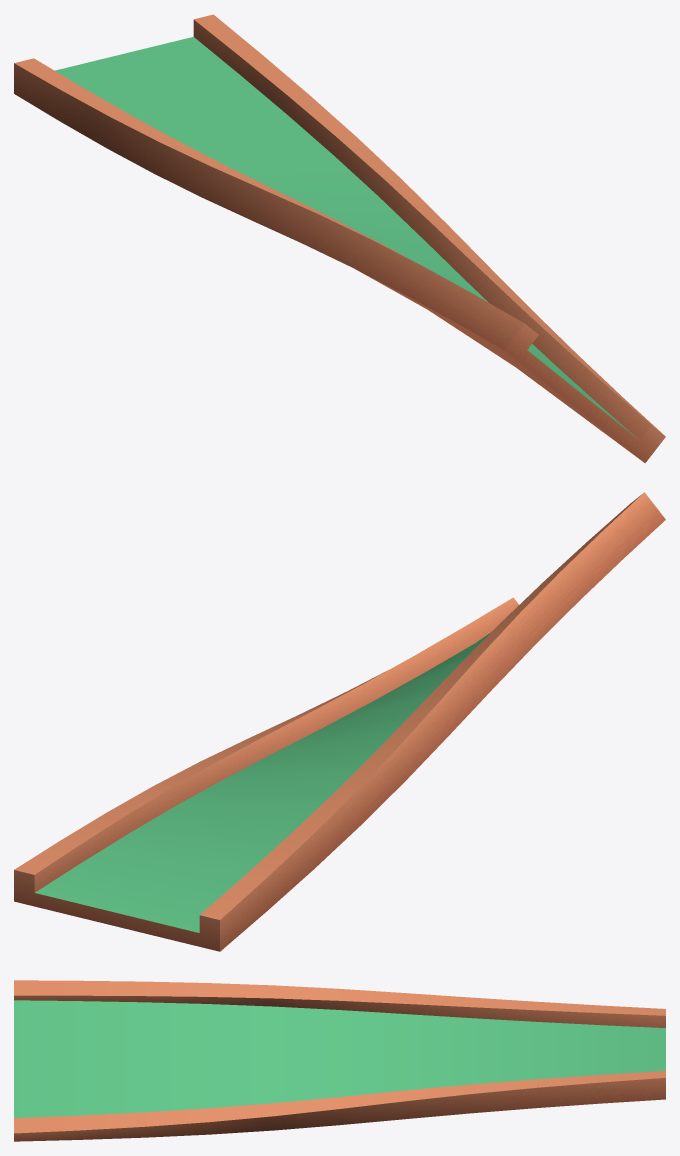
The model's file is spline-default-straight-skew-left.glb.
3 views of the same model, one above another, from view 1: azimuth 30°, elevation 25°; view 2: azimuth 150°, elevation 25°; view 3: azimuth 270°, elevation 25° (orthographic). The views are drawn at different scales.
Parts seen in each view (by area): view 1: spline-default-straight-skew-left; view 2: spline-default-straight-skew-left; view 3: spline-default-straight-skew-left.
Boxes of the visible parts, left/top/right/bottom form: spline-default-straight-skew-left: left=14, top=14, right=665, bottom=463; spline-default-straight-skew-left: left=14, top=492, right=665, bottom=951; spline-default-straight-skew-left: left=14, top=980, right=665, bottom=1141.
Size of the model in its own units: 1.02 by 0.8107 by 4.
Materials: 1 (1 with a texture image).
